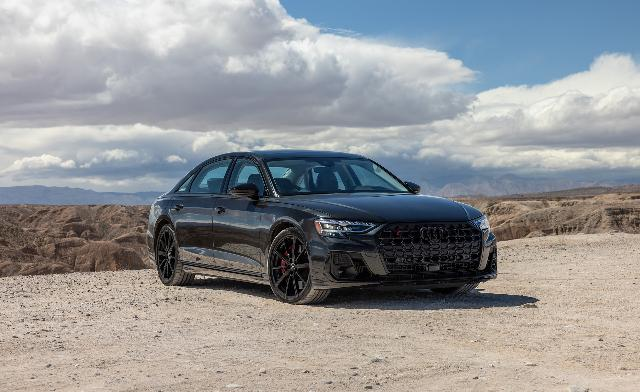audi: (145, 150, 499, 306)
